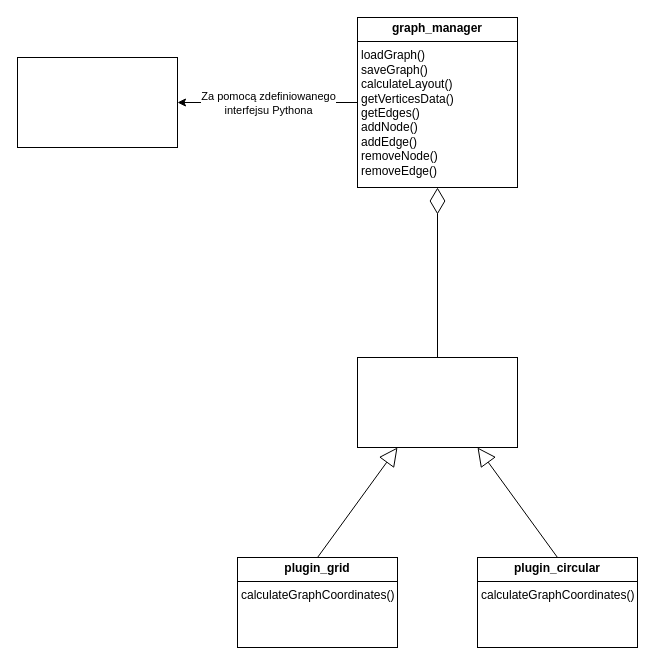
Some shapes in this 655 by 665 pixel diagram are drawn without their labels. The box of each missing label's shape, as (x1, y1, x2, y2) in pixels:
graphViewer Wyświetla graf i umożliwia użytkownikowi na interakcję z grafem: (16, 56, 178, 148)
plugin_interface calculateGraphCoordinates(): (356, 356, 518, 448)
